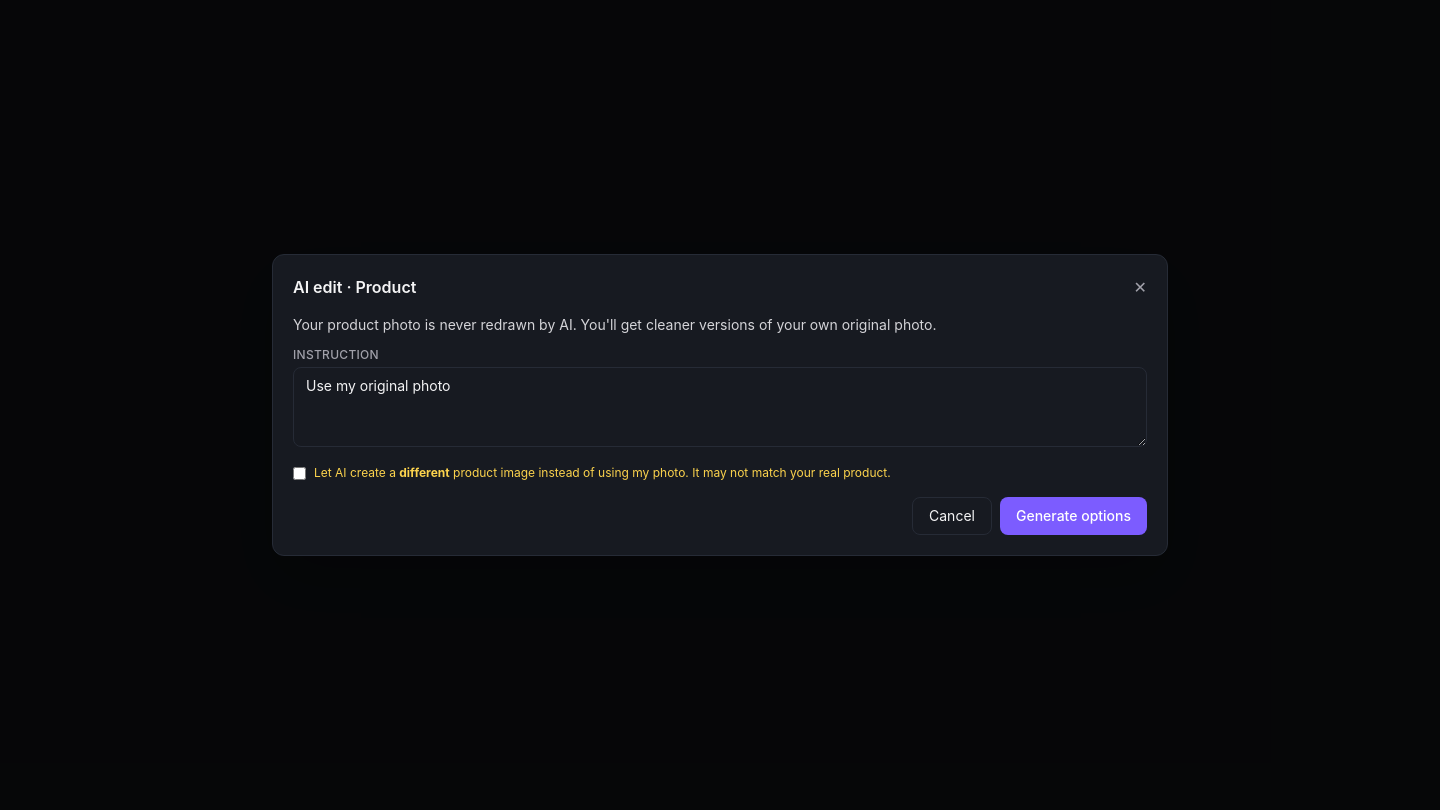
Scenario: AI edit dialog (selected element only) › failures are shown and nothing changes; product layers explain the no-AI rule and require opt-in
Expected: the text "never redrawn by AI" is shown, top-left (293, 316), bottom-right (936, 333)
Expected: the checkbox labelled "Let AI create a" is not checked, top-left (293, 467), bottom-right (306, 480)
Click the button "Generate options". click: (1074, 516)
box: top-left (1000, 497), bottom-right (1147, 535)
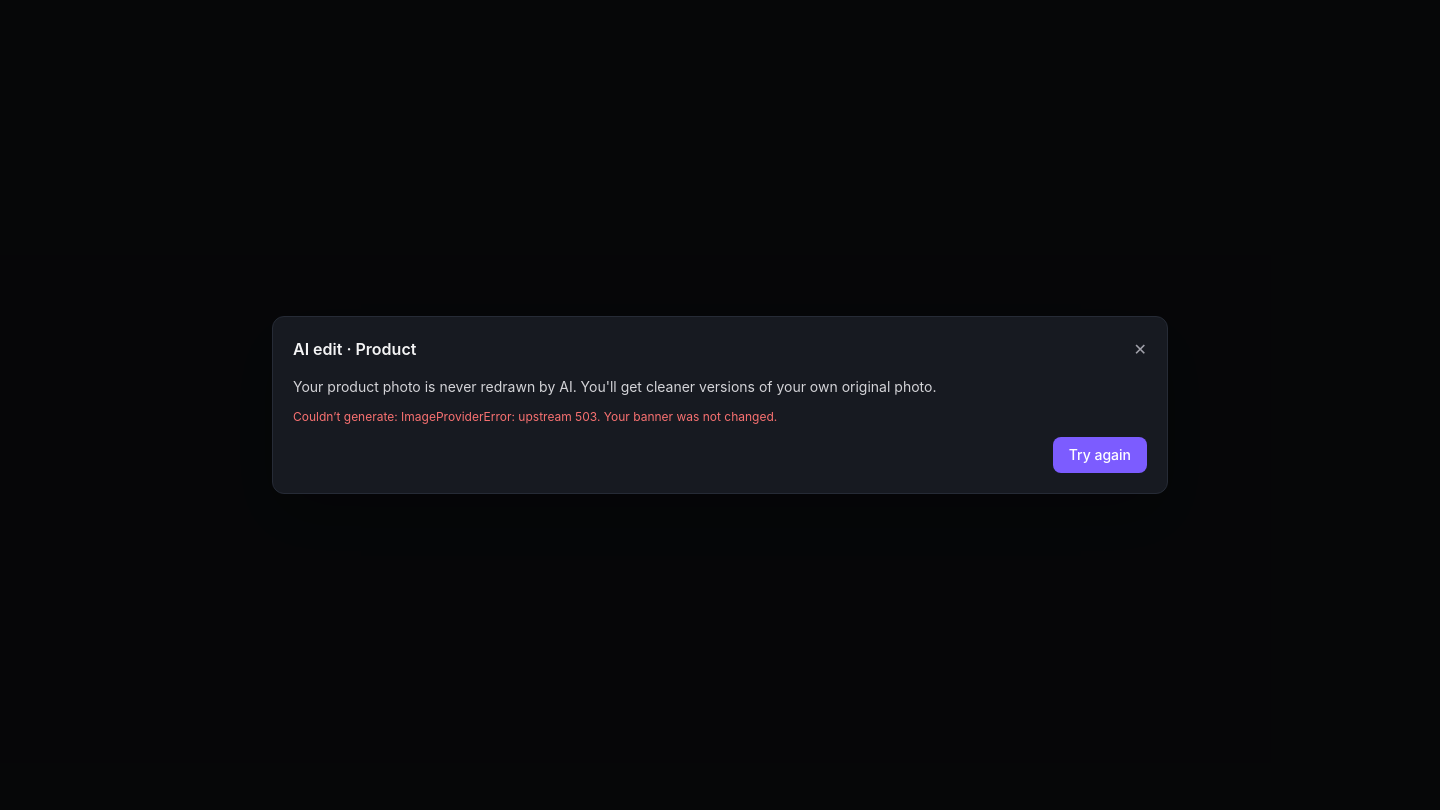
Now the text "upstream 503" is shown, box top-left (401, 409), bottom-right (597, 424)
